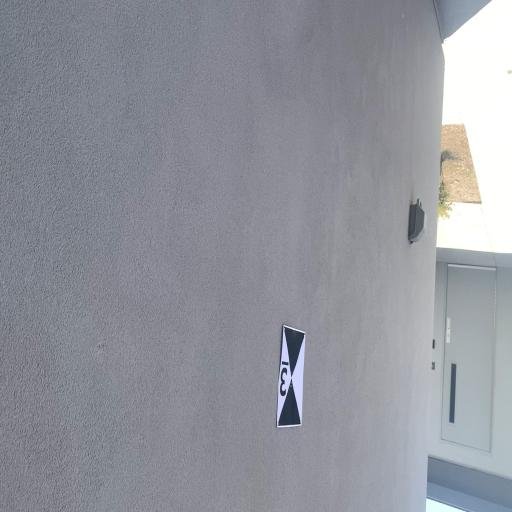target3: (276, 324, 306, 426)
